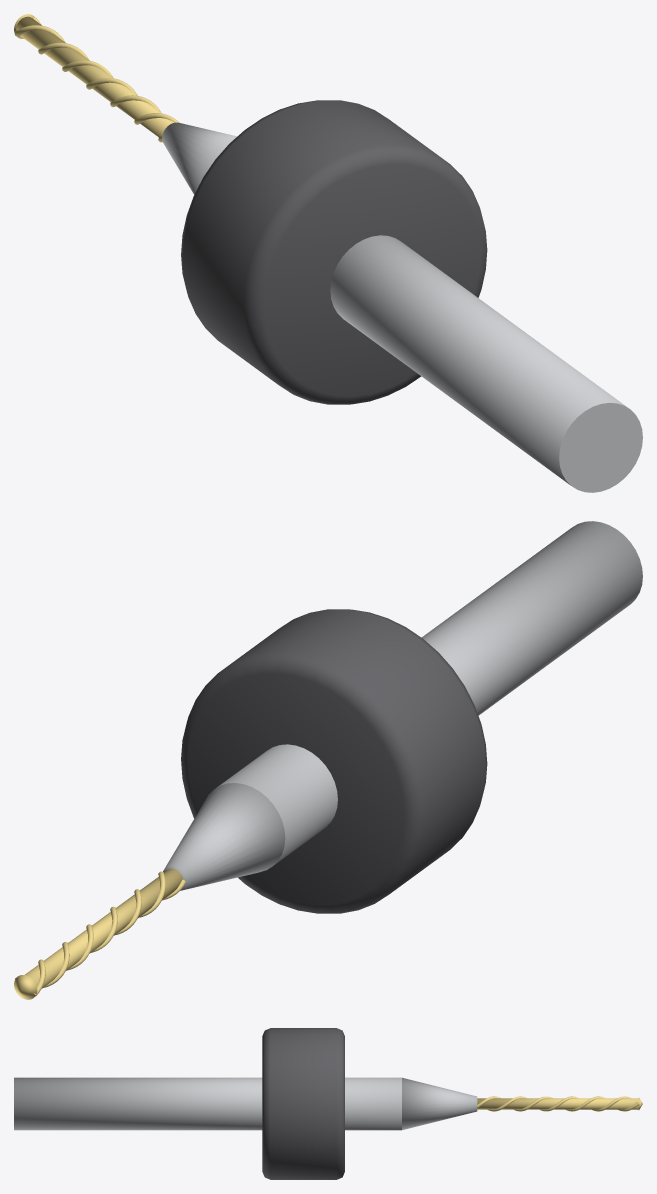
File: drill18_0p9.glb
3 views of the same model, one above another, from view 1: azimuth 30°, elevation 25°; view 2: azimuth 150°, elevation 25°; view 3: azimuth 270°, elevation 25° (orthographic). The views are drawn at different scales.
Visible parts, largest first — view 1: Cylinder.002, Cylinder.001, Cylinder, Cone, flute.001, flute; view 2: Cylinder.002, Cylinder.001, Cone, Cylinder, flute.001, flute; view 3: Cylinder.001, Cylinder.002, Cone, Cylinder, flute, flute.001.
Boxes of the visible parts, <box> form: Cylinder.002: <box>181,100,487,404</box>; Cylinder.001: <box>330,235,642,492</box>; Cylinder: <box>16,16,174,137</box>; Cone: <box>162,122,237,194</box>; flute.001: <box>15,25,162,142</box>; flute: <box>33,17,179,124</box>; Cylinder.002: <box>181,609,487,913</box>; Cylinder.001: <box>216,521,642,865</box>; Cone: <box>163,783,285,890</box>; Cylinder: <box>25,868,182,988</box>; flute.001: <box>34,879,185,996</box>; flute: <box>14,871,165,987</box>; Cylinder.001: <box>14,1077,401,1130</box>; Cylinder.002: <box>262,1028,344,1179</box>; Cone: <box>402,1077,477,1130</box>; Cylinder: <box>477,1098,638,1109</box>; flute: <box>477,1096,638,1111</box>; flute.001: <box>487,1096,630,1111</box>.
Size of the model in its own units: 0.00917 by 0.00917 by 0.038.
